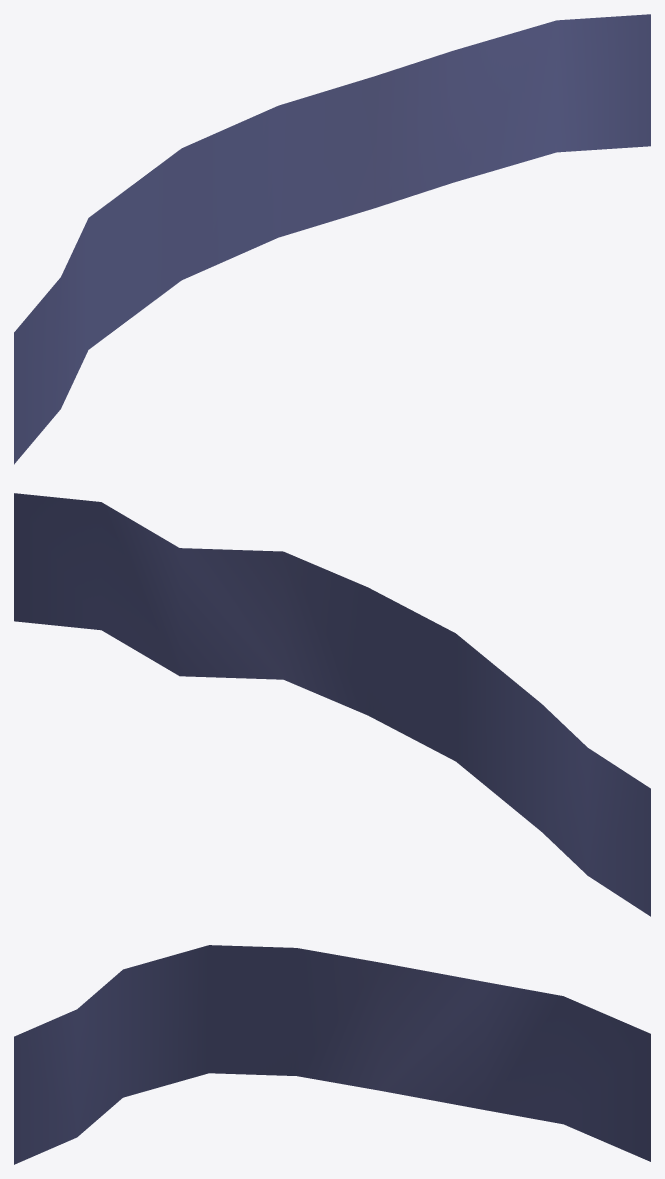
File: M3_Zone1_IdiotBlocker.glb
3 views of the same model, one above another, from view 1: azimuth 30°, elevation 25°; view 2: azimuth 150°, elevation 25°; view 3: azimuth 330°, elevation 25° (orthographic). The views are drawn at different scales.
Parts seen in each view (by area): view 1: M3_ZONE1_IDIOTBLOCKER; view 2: M3_ZONE1_IDIOTBLOCKER; view 3: M3_ZONE1_IDIOTBLOCKER.
Boxes of the visible parts, x1=… form: M3_ZONE1_IDIOTBLOCKER: x1=14, y1=14, x2=650, y2=464; M3_ZONE1_IDIOTBLOCKER: x1=14, y1=493, x2=650, y2=916; M3_ZONE1_IDIOTBLOCKER: x1=14, y1=945, x2=650, y2=1164.
Bounding box in the file's own units: 28.05 × 12.46 × 1.75.
